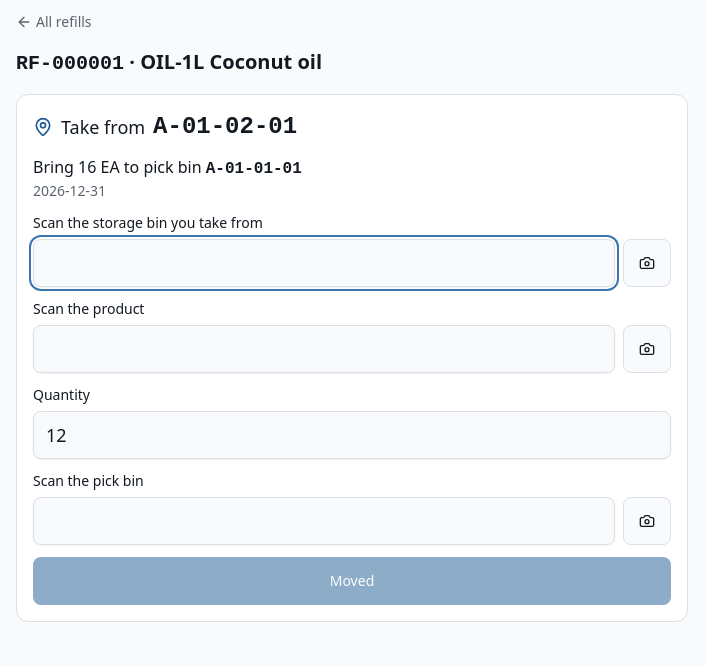
Test: does a refill on the phone: take from the storage bin shown, scan the pick bin
This screenshot has width=705, height=665.
Expected: the text "A-01-02-01" is shown, 153,111 -> 297,143
Expected: the field labelled "Quantity" holds "12", 33,411 -> 671,459
Type "A-01-02-01" into the field labelled "Scan the storage bin you take from" at (324, 263), box 33,239 -> 615,287
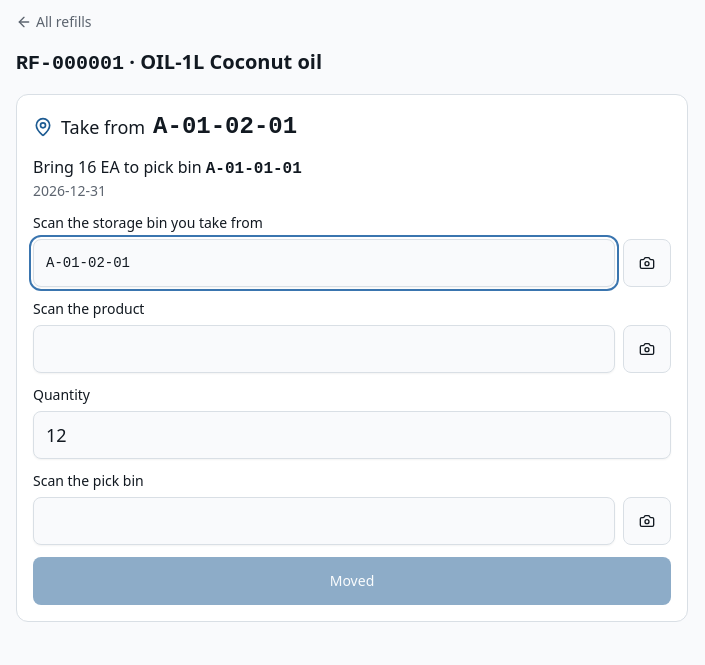
Type "OIL-1L" into the field labelled "Scan the product" at (324, 349), box 33,325 -> 615,373
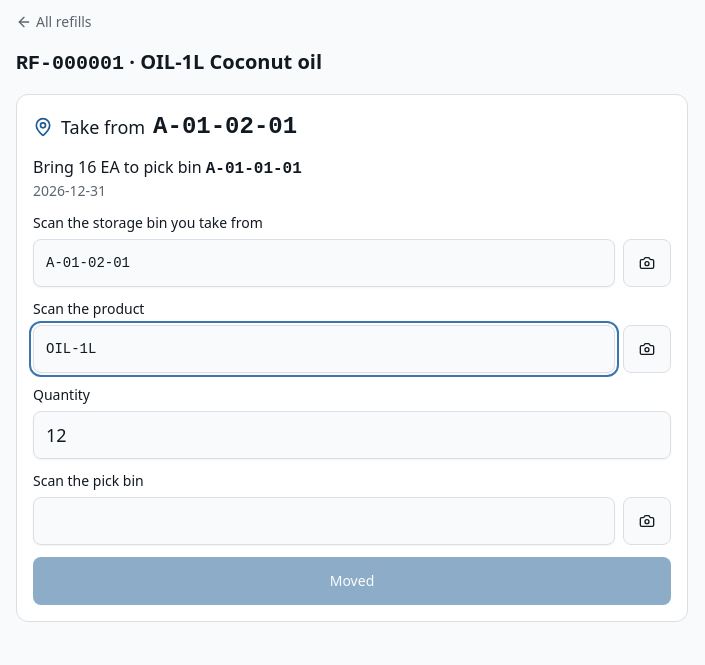
Type "A-01-01-09" into the field labelled "Scan the pick bin" at (324, 521), box 33,497 -> 615,545
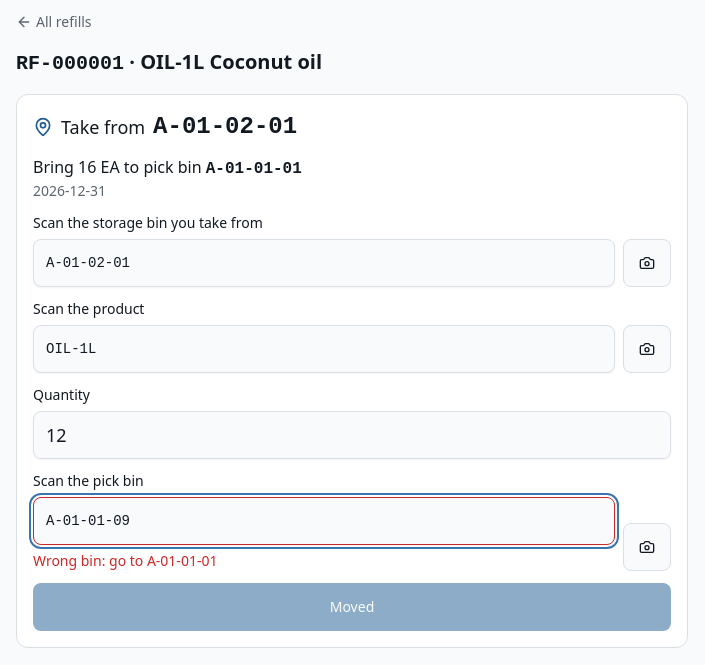
Expected: the button "Moved" is disabled, 33,583 -> 671,631
Expected: the text "Wrong bin: go to A-01-01-01" is shown, 33,551 -> 217,570
Replace the text in the field labelled "Scan the pick bin" with "a-01-01-01" at (324, 521), box 33,497 -> 615,545
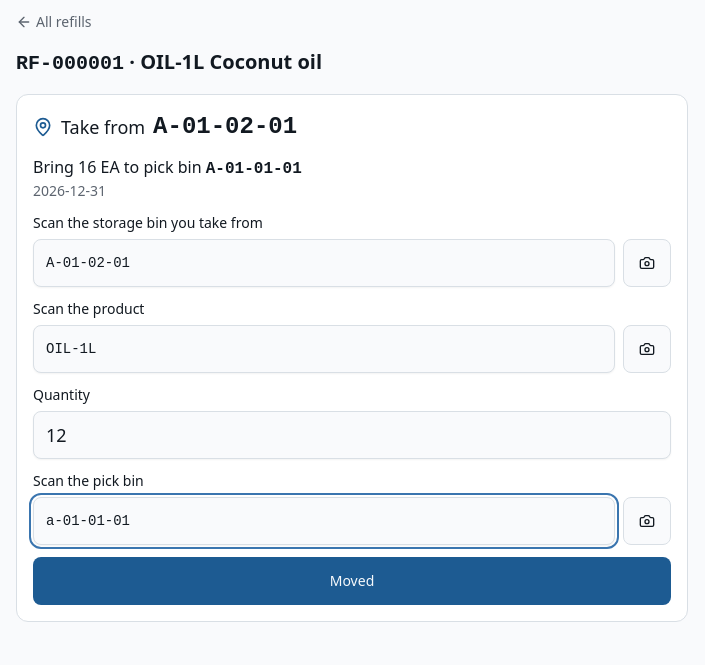
Click the button "Moved" at (352, 581), box 33,557 -> 671,605
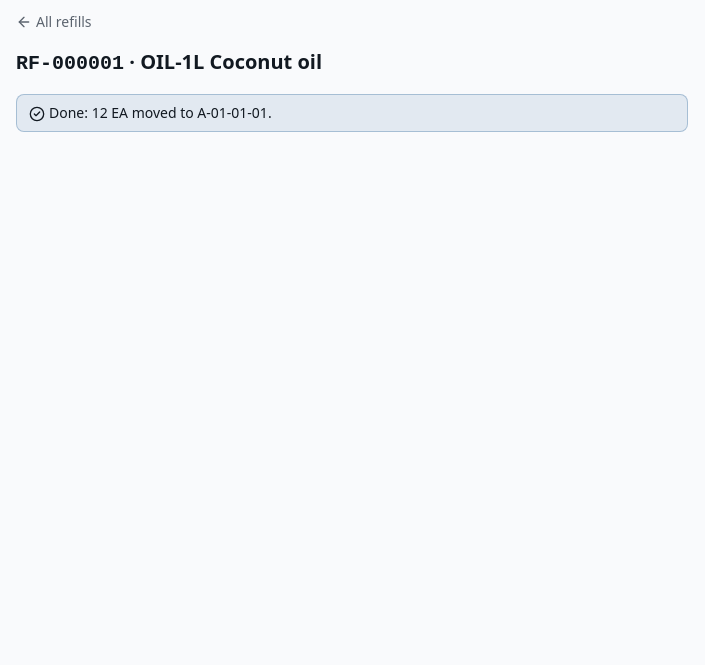
Expected: the text "Done: 12 EA moved to A-01-01-01." is shown, 16,94 -> 688,132
